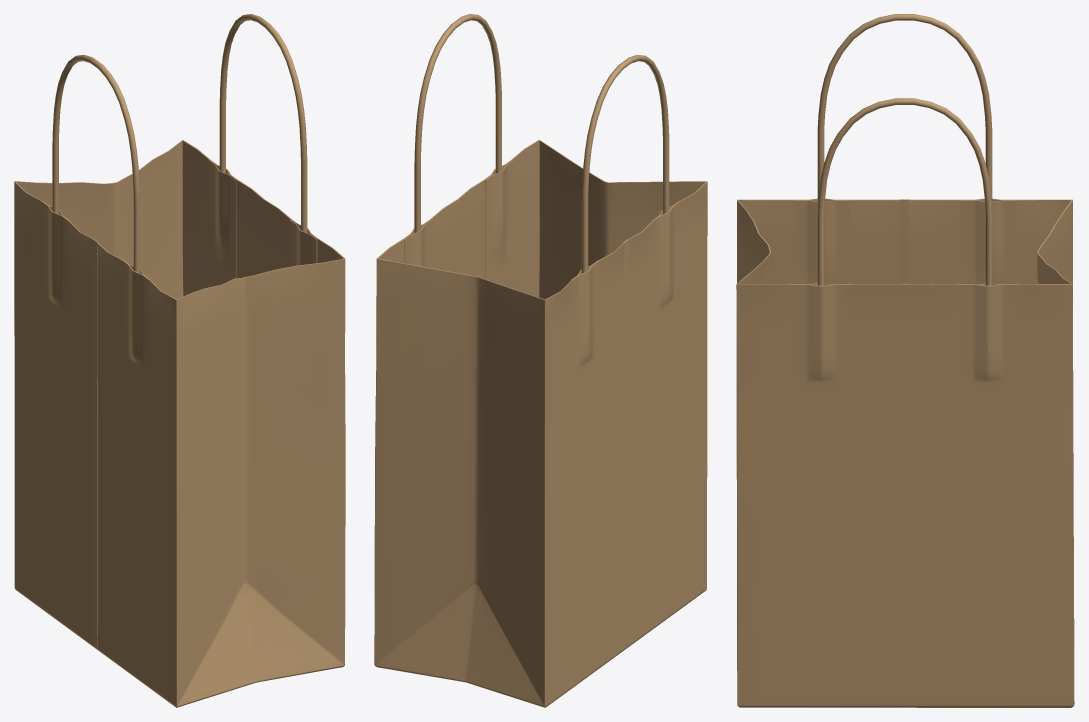
Rendered from paperbag_a03.glb.
3 views of the same model, side by side, from view 1: azimuth 30°, elevation 25°; view 2: azimuth 150°, elevation 25°; view 3: azimuth 270°, elevation 25° (orthographic). The views are drawn at different scales.
Size of the model in its own units: 0.1579 by 0.5093 by 0.2556.
